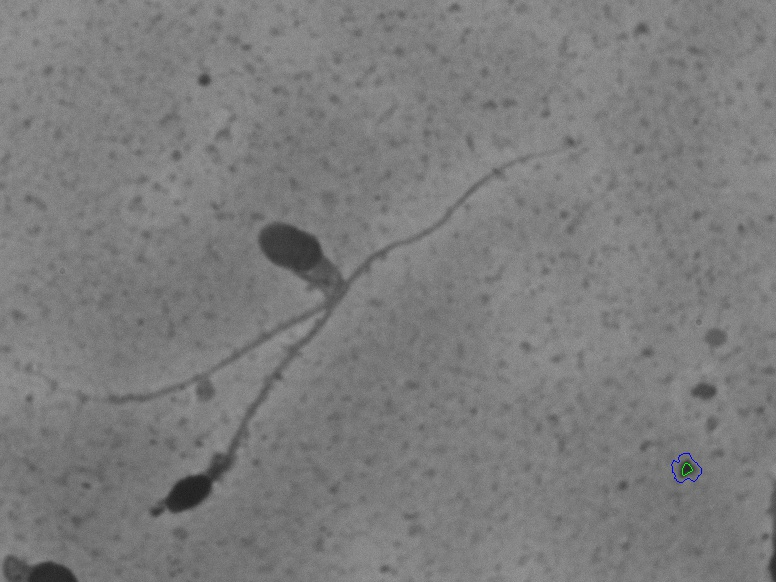Abnormal: (74, 184, 366, 377), (92, 383, 325, 566)
